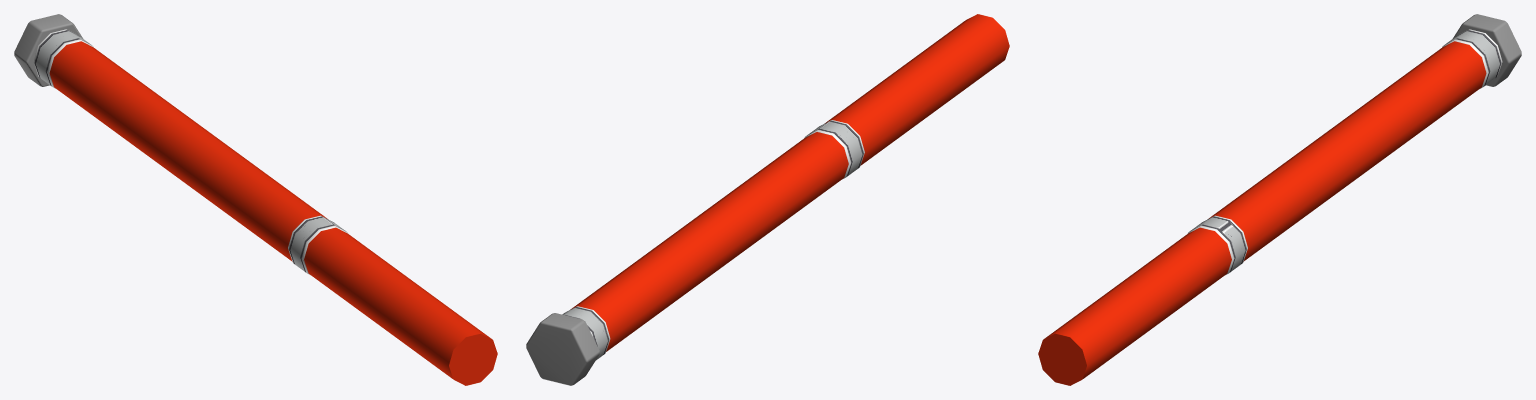
Rendered from SmallPipe_Straight.FBX.
The picture shows the model from 3 angles, left to right: view 1: azimuth 30°, elevation 25°; view 2: azimuth 150°, elevation 25°; view 3: azimuth 330°, elevation 25°; orthographic projection.
Visible parts, largest first — view 1: Cylinder021, Cylinder022, Cylinder023, Cylinder024; view 2: Cylinder021, Cylinder022, Cylinder023, Cylinder024; view 3: Cylinder021, Cylinder022, Cylinder023, Cylinder024.
Part boxes in pixels (x1,y1,x2,y2): Cylinder021: (49,41,497,385); Cylinder022: (14,14,82,86); Cylinder023: (288,215,347,274); Cylinder024: (33,29,93,88); Cylinder021: (570,14,1009,351); Cylinder022: (526,313,599,385); Cylinder023: (804,120,864,179); Cylinder024: (562,306,610,360); Cylinder021: (1038,41,1486,385); Cylinder022: (1453,14,1521,86); Cylinder023: (1188,215,1247,274); Cylinder024: (1442,29,1502,88).
Bounding box in the file's own units: 25.2 × 22.52 × 304.
